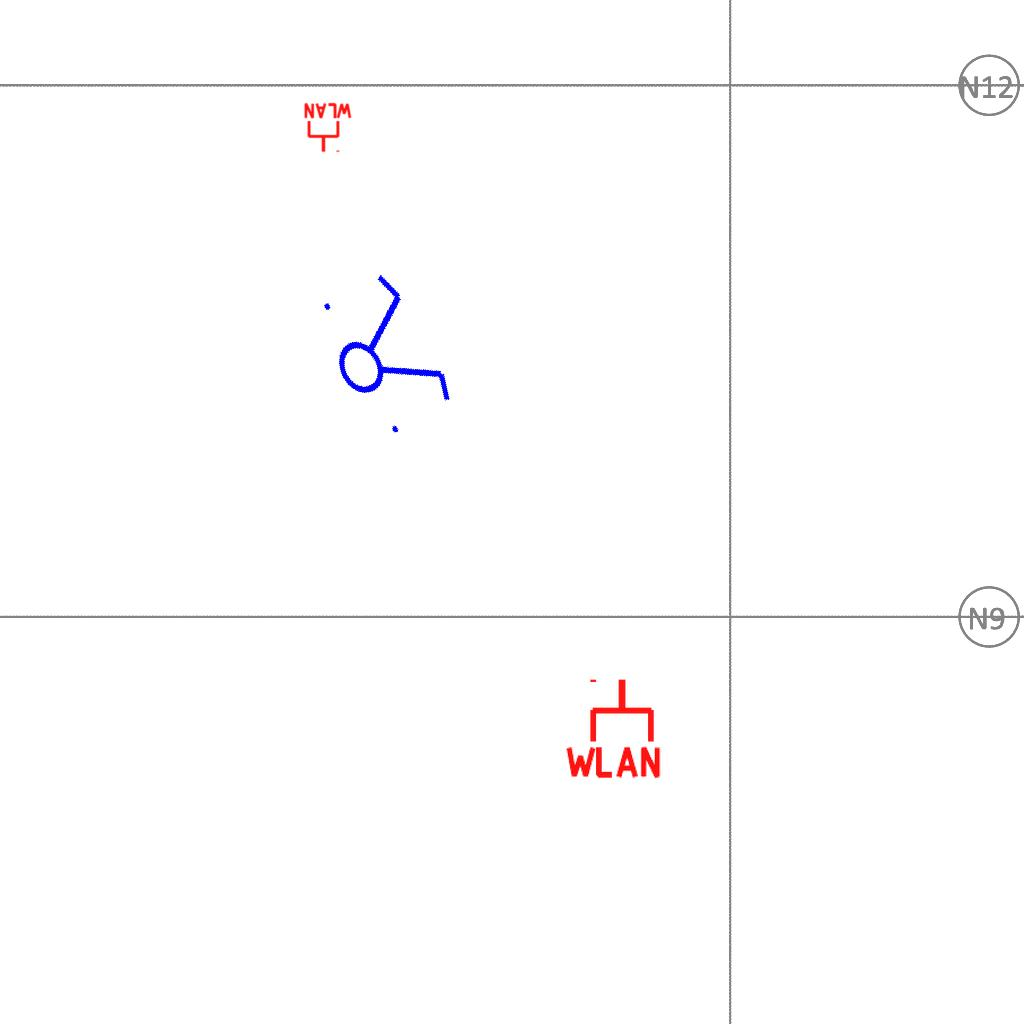Serienschalter: (300, 257, 466, 451)
WLAN: (561, 675, 665, 780), (302, 102, 354, 154)
